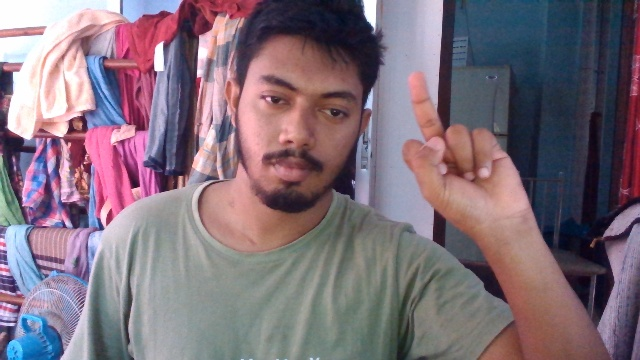fucku: (388, 70, 546, 227)
